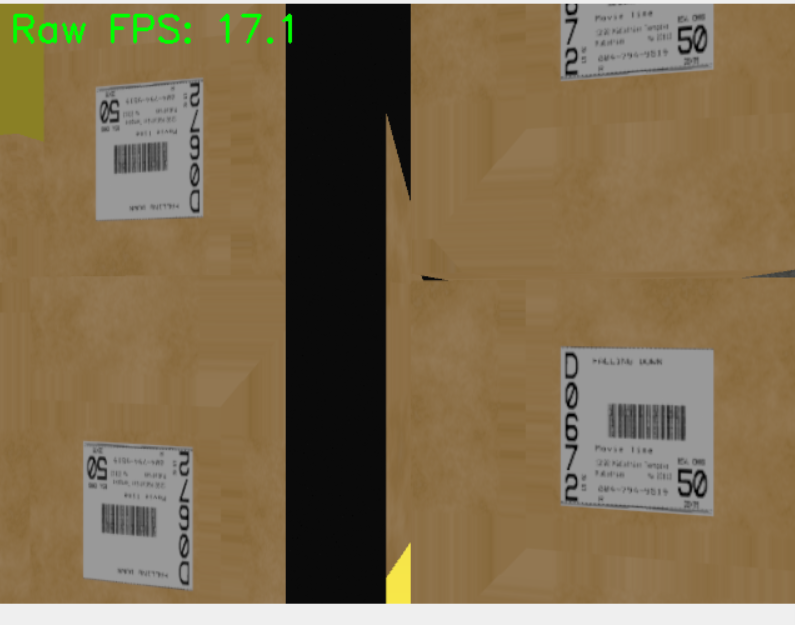barcode: (559, 345, 715, 516), (81, 439, 195, 590), (94, 79, 205, 222)
